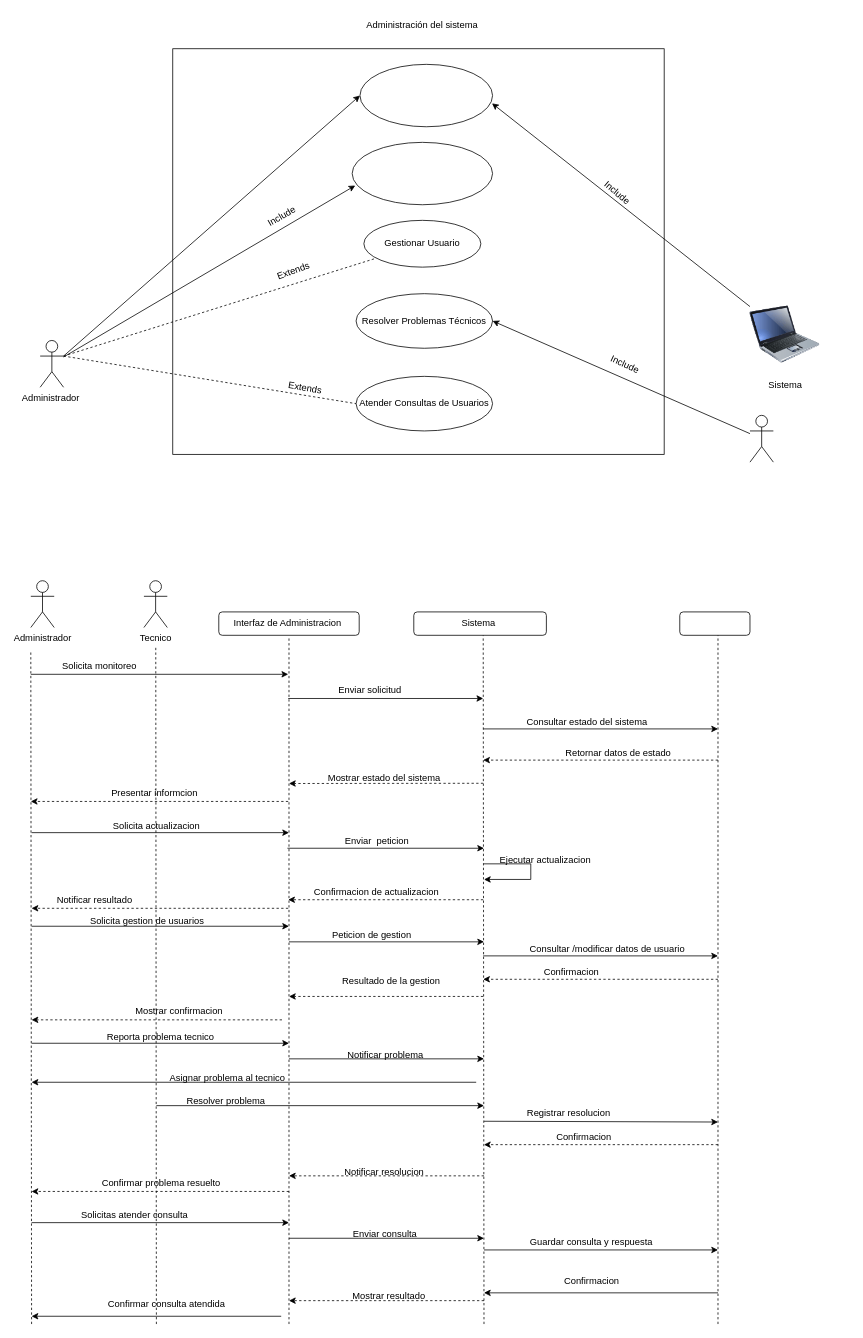
Some shapes in this 863 by 1338 pixel diagram are drawn without their labels. The shapes that lost their labels are listed below. From the top down, each one's centre as x and y in pixels, then its label:
the point at 426,95: Monitorear Estado del sistema
the point at 422,173: Aplicar Actualizaciones del sistema
the point at 761,438: Técnico en resolver Problemas de sistema
the point at 714,623: Base de datos
